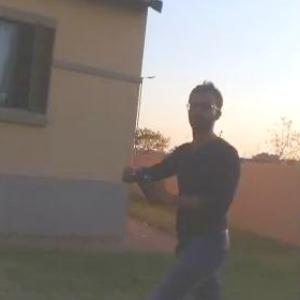follow: (110, 67, 238, 299)
